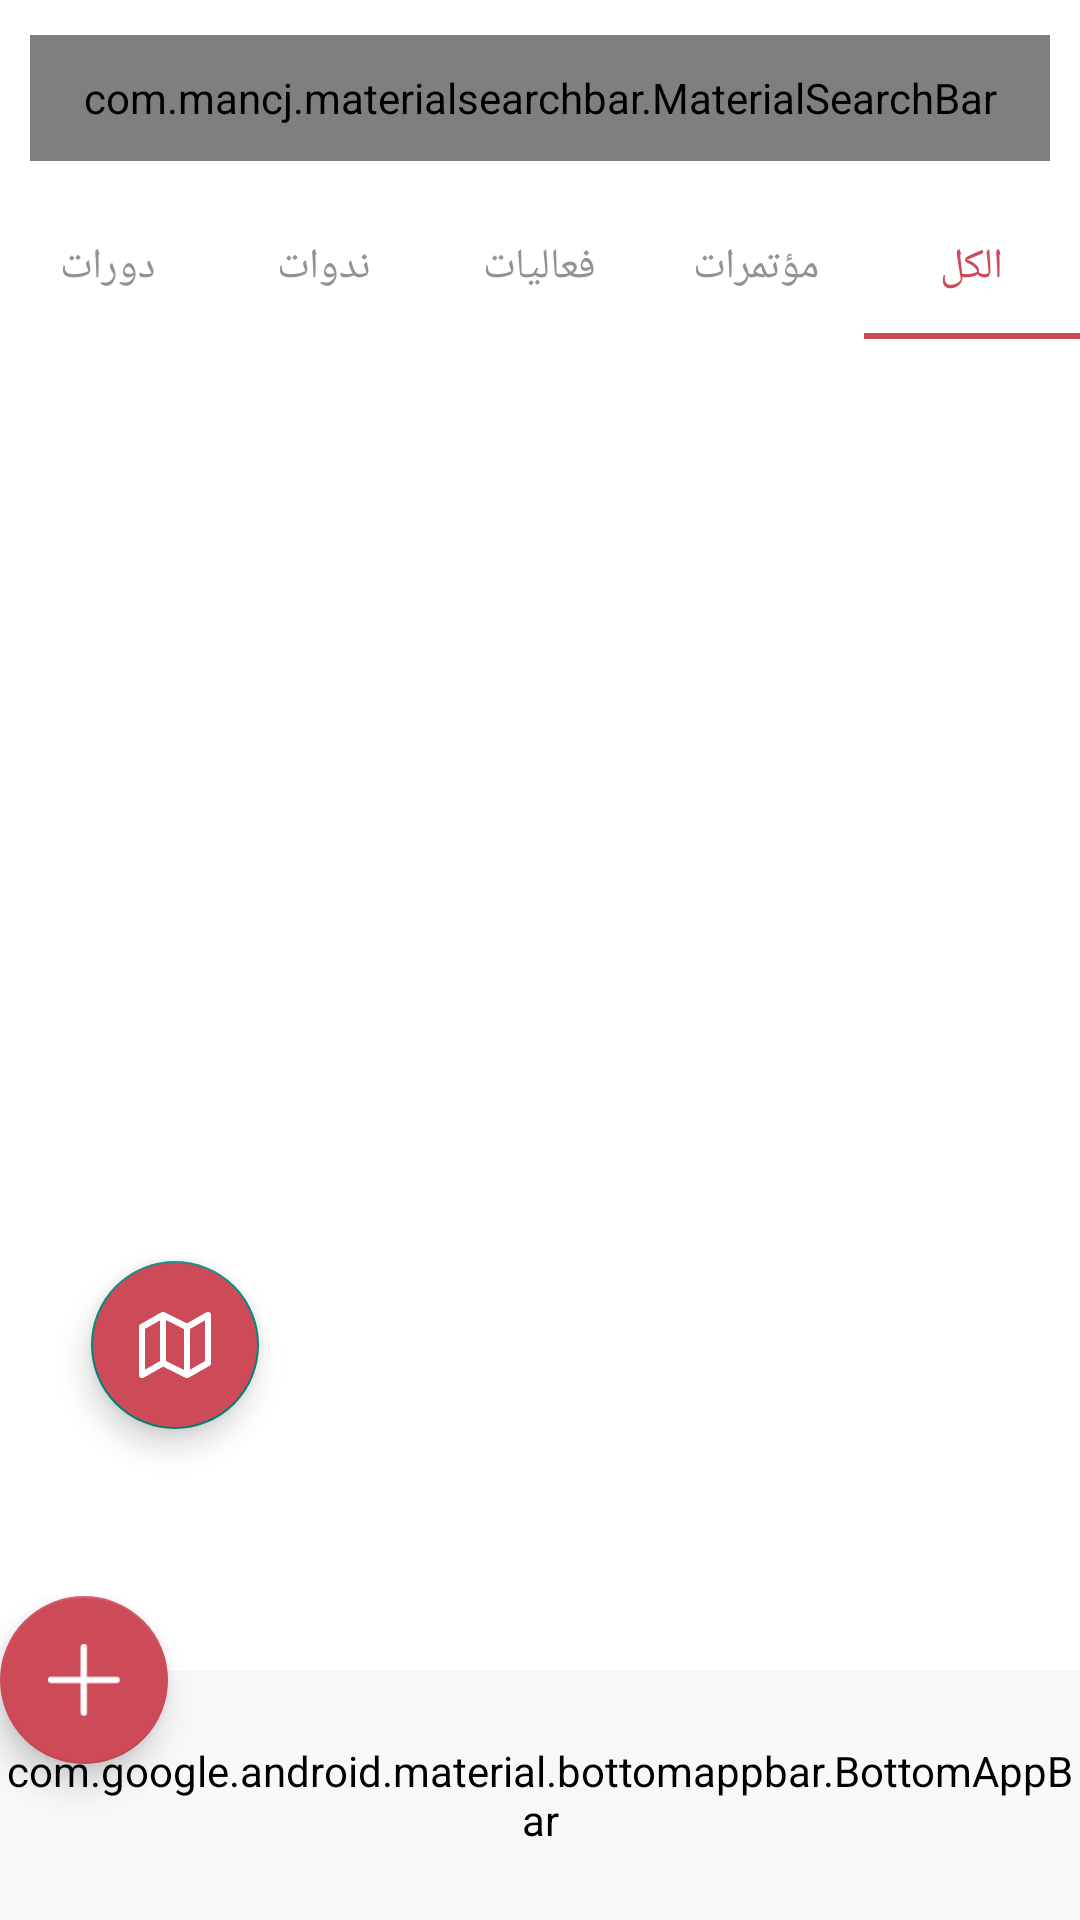

Icon click points for this 1080×1920 phone screenshot, format (x=x, y=y):
map: (x=175, y=1345)
